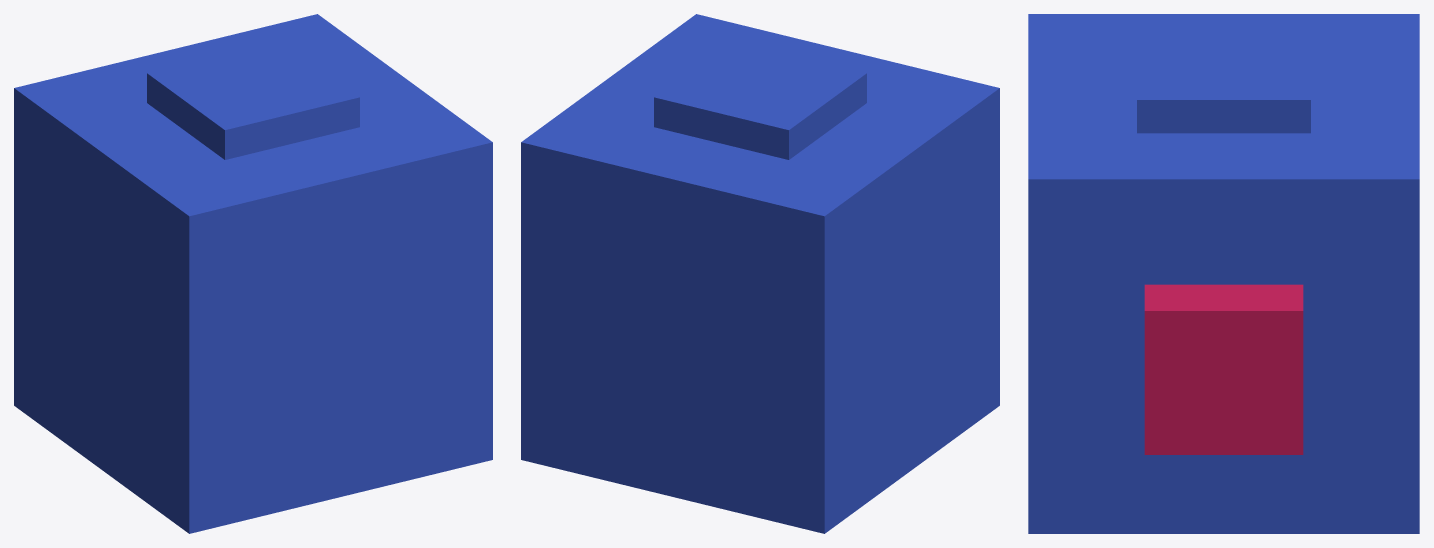
3 renders of one model, left to right at view 1: azimuth 30°, elevation 25°; view 2: azimuth 150°, elevation 25°; view 3: azimuth 270°, elevation 25°, orthographic. The views are drawn at different scales.
Visible parts, largest first — view 1: Cube; view 2: Cube; view 3: Cube.
Part boxes in pixels (x1,y1,x2,y2): Cube: (14,14,492,533); Cube: (521,14,999,533); Cube: (1028,14,1419,533).
Size of the model in its own units: 2.32 by 2.19 by 2.
